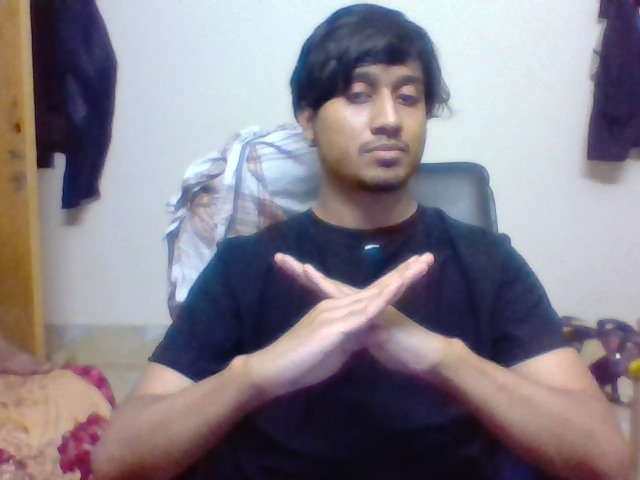X: (248, 240, 484, 390)
